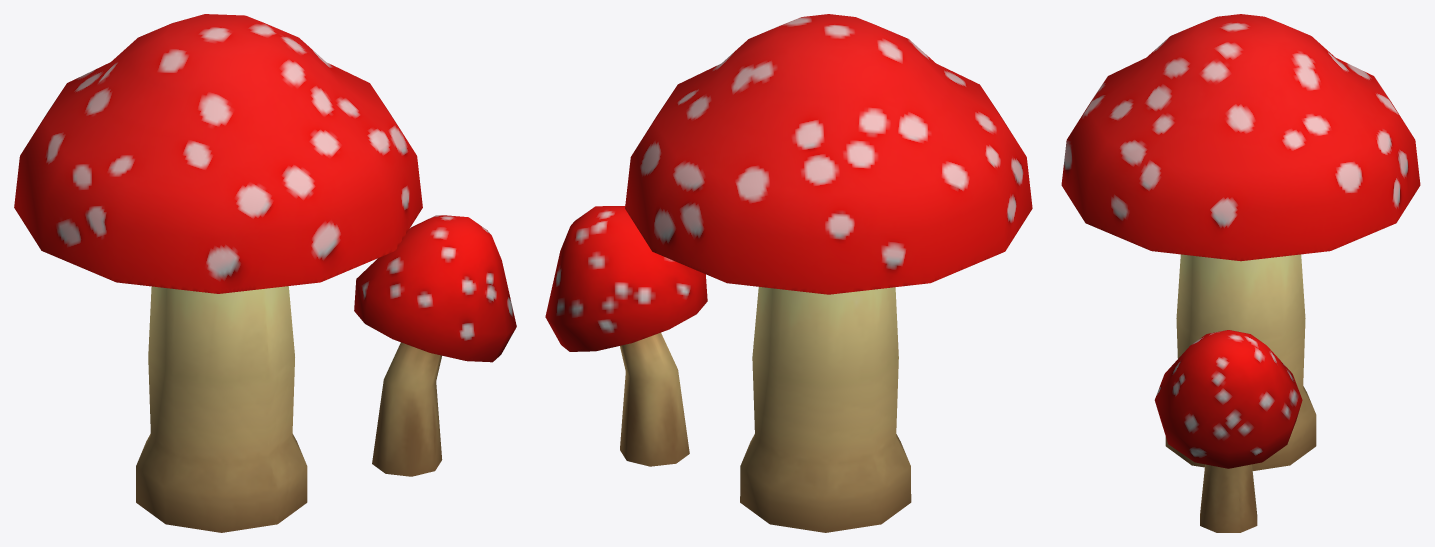
Rendered from Mushroom01.FBX.
The picture shows the model from 3 angles, left to right: view 1: azimuth 30°, elevation 25°; view 2: azimuth 150°, elevation 25°; view 3: azimuth 270°, elevation 25°; orthographic projection. The views are drawn at different scales.
Parts seen in each view (by area): view 1: Mushroom01; view 2: Mushroom01; view 3: Mushroom01.
Boxes of the visible parts, x1,y1,x2,y2 form: Mushroom01: [14, 14, 516, 532]; Mushroom01: [545, 14, 1032, 532]; Mushroom01: [1061, 14, 1420, 532].
Size of what is drawn, in the model's own units: 0.4834 by 0.4784 by 0.375.
